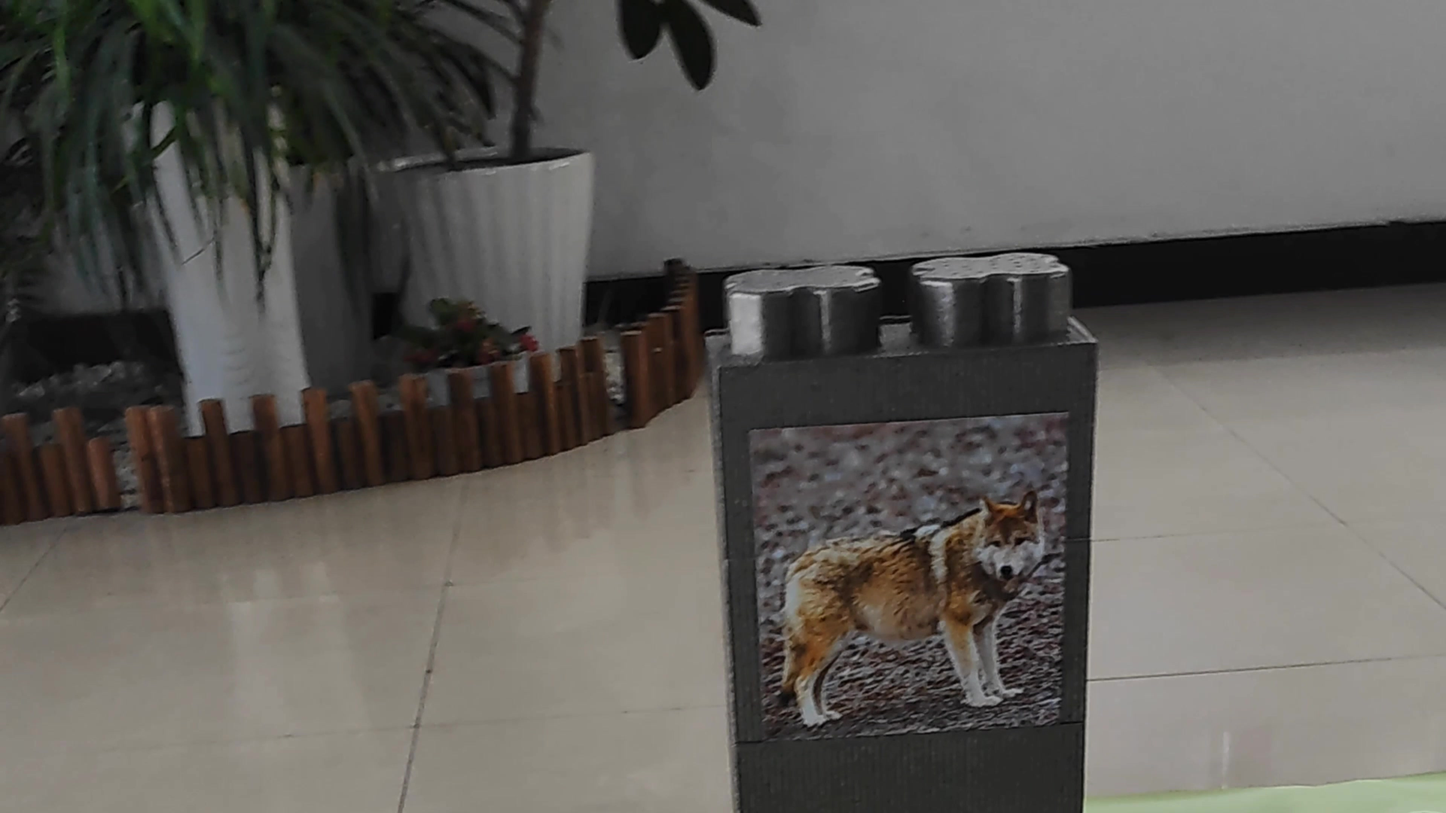wolf: (751, 426, 1034, 726)
